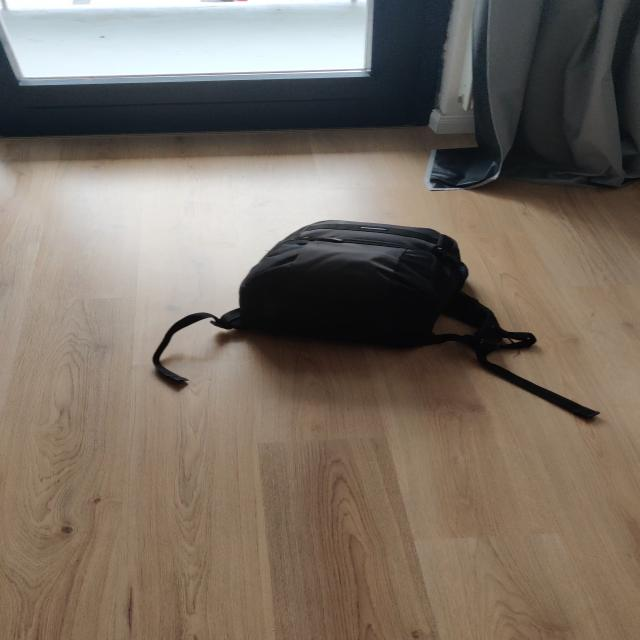backpack: (219, 216, 500, 354)
